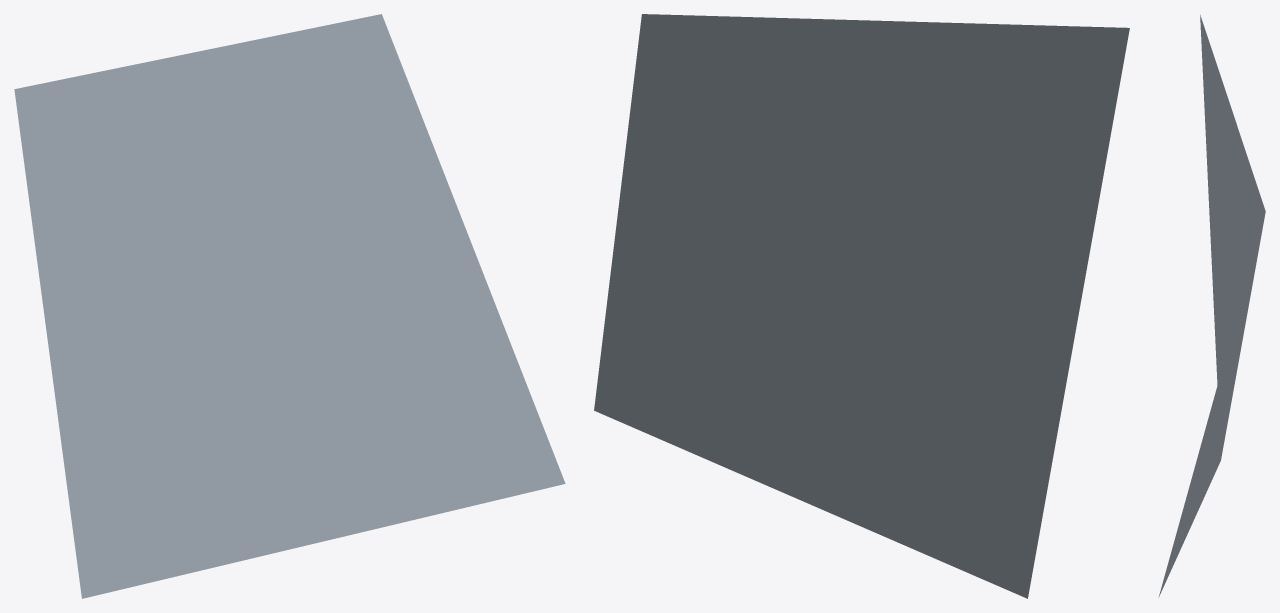
The model's file is palmar-trapezoideocapitate-ligament-l.glb.
The picture shows the model from 3 angles, left to right: view 1: azimuth 30°, elevation 25°; view 2: azimuth 150°, elevation 25°; view 3: azimuth 270°, elevation 25°; orthographic projection. The views are drawn at different scales.
Visible parts, largest first — view 1: Palmar trapezoideocapitate ligament.l; view 2: Palmar trapezoideocapitate ligament.l; view 3: Palmar trapezoideocapitate ligament.l.
Boxes of the visible parts, x1,y1,x2,y2 form: Palmar trapezoideocapitate ligament.l: [14, 14, 565, 598]; Palmar trapezoideocapitate ligament.l: [594, 14, 1129, 598]; Palmar trapezoideocapitate ligament.l: [1158, 14, 1265, 597].
Bounding box in the file's own units: 0.00487 × 0.00479 × 0.00112.
